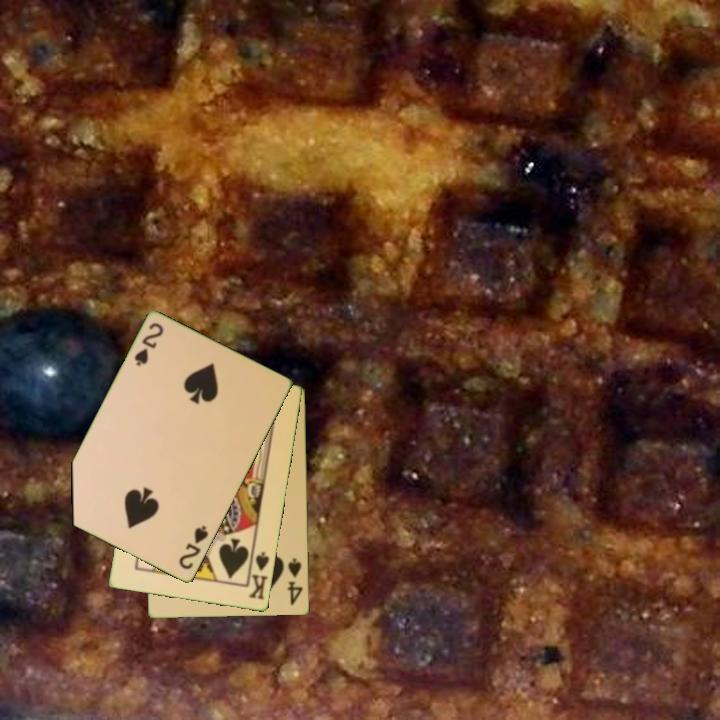2s: (175, 522, 211, 573), (131, 320, 167, 369)
4s: (284, 555, 306, 609)
Ks: (245, 547, 272, 603)
